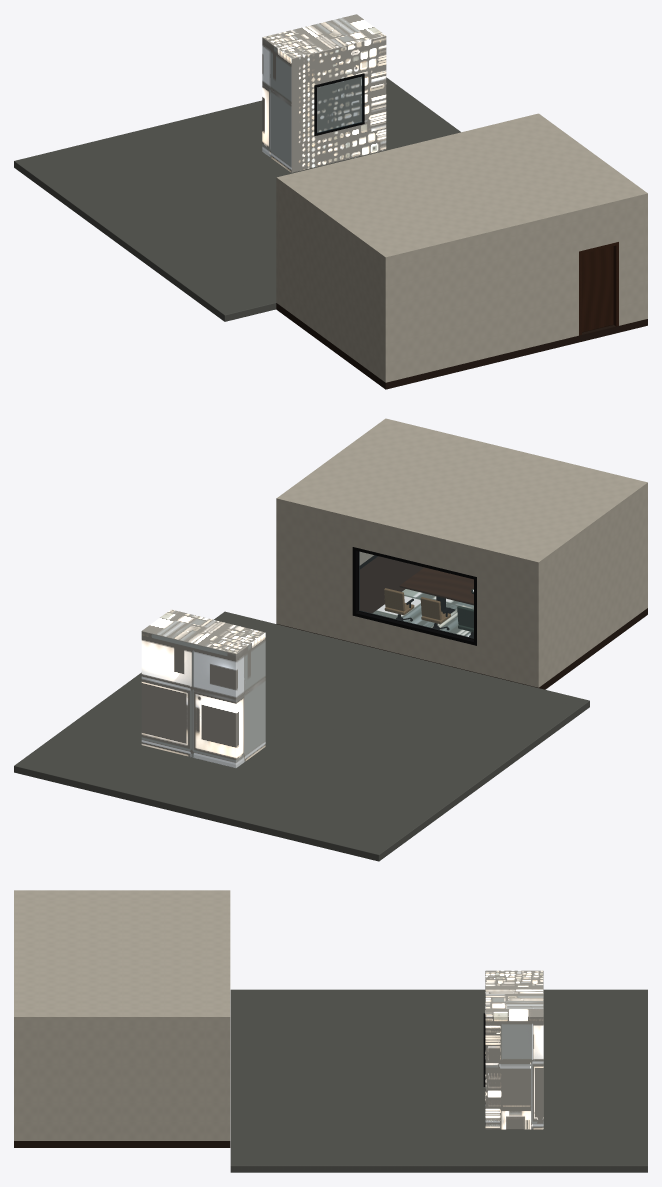
The picture shows the model from 3 angles, top to bottom: view 1: azimuth 30°, elevation 25°; view 2: azimuth 150°, elevation 25°; view 3: azimuth 270°, elevation 25°; orthographic projection.
Parts seen in each view (by area): view 1: shell.walls, exterior.near-ground, shell.ceiling, exterior.context-mass, shell.floor, opening.main-door.panel, exterior.context-window.glass, exterior.context-window.frame; view 2: exterior.near-ground, shell.walls, shell.ceiling, exterior.context-mass, opening.main-window.glass, shell.floor, component.conference-table.top, reality.area-rug, opening.main-window.frame.bottom; view 3: exterior.near-ground, shell.ceiling, shell.walls, exterior.context-mass, shell.floor.
Boxes of the visible parts, x1,y1,x2,y2 form: shell.walls: [276, 184, 647, 382]; exterior.near-ground: [14, 77, 460, 321]; shell.ceiling: [276, 113, 647, 263]; exterior.context-mass: [262, 14, 386, 172]; shell.floor: [276, 303, 647, 389]; opening.main-door.panel: [582, 246, 613, 332]; exterior.context-window.glass: [317, 76, 362, 133]; exterior.context-window.frame: [314, 73, 364, 135]; exterior.near-ground: [14, 611, 589, 861]; shell.walls: [276, 489, 647, 687]; shell.ceiling: [276, 418, 647, 569]; exterior.context-mass: [141, 609, 265, 767]; opening.main-window.glass: [359, 552, 473, 638]; shell.floor: [277, 556, 647, 689]; component.conference-table.top: [399, 567, 473, 605]; reality.area-rug: [372, 589, 473, 636]; opening.main-window.frame.bottom: [355, 611, 473, 644]; exterior.near-ground: [230, 989, 647, 1172]; shell.ceiling: [14, 890, 230, 1023]; shell.walls: [14, 1023, 230, 1140]; exterior.context-mass: [485, 970, 543, 1129]; shell.floor: [14, 1141, 230, 1147].
Bounding box in the file's own units: 10 × 3.46 × 15.19.
21 materials, 10 textured.
